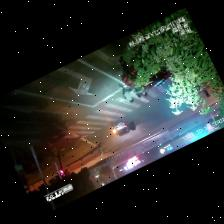person: (118, 82, 134, 101), (119, 55, 132, 78)
